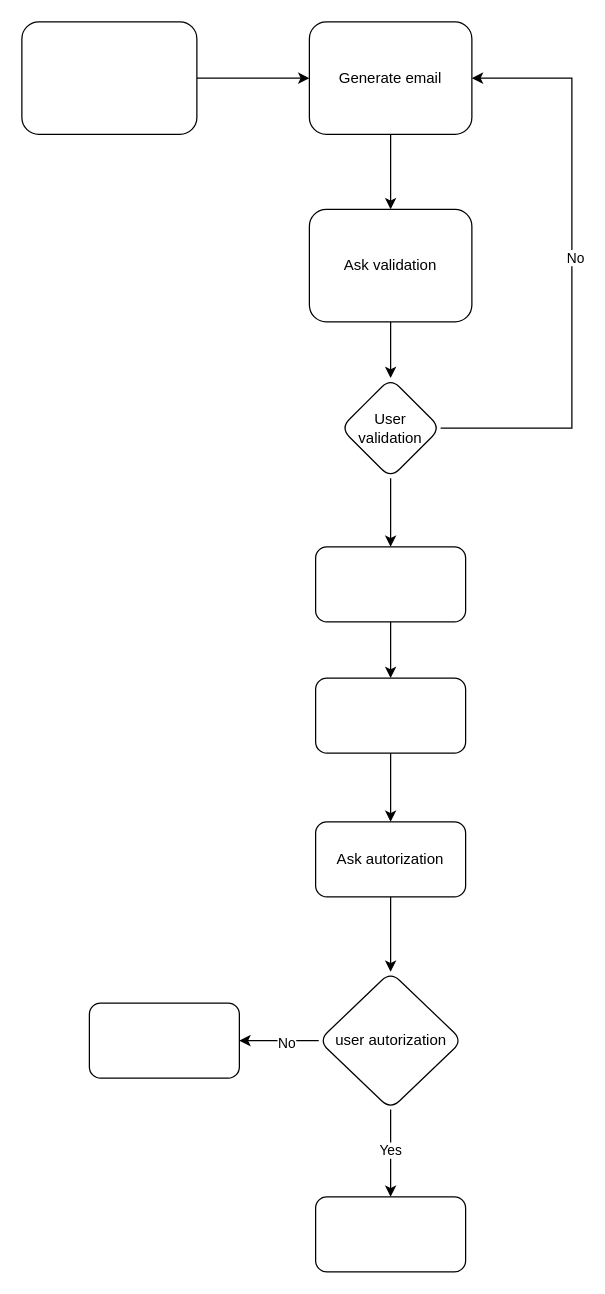
This 605x1294 diagram has some shape labels left out. The shapes that lost their labels are listed below. From the top down, each one's centre as x and y in pixels, then its label:
At point (109, 77): "Fill the form".
At point (390, 584): "Post it to DB".
At point (390, 715): "Prepare email sending".
